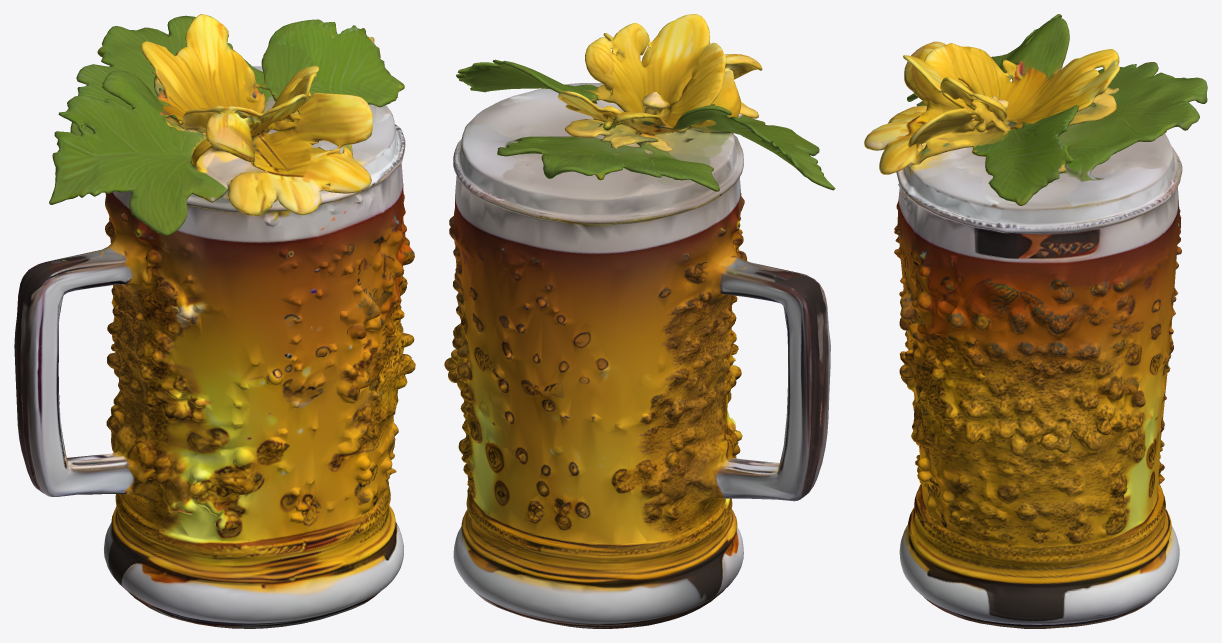
The model's file is The Mango Man.glb.
3 views of the same model, side by side, from view 1: azimuth 30°, elevation 25°; view 2: azimuth 150°, elevation 25°; view 3: azimuth 270°, elevation 25° (orthographic). The views are drawn at different scales.
Visible parts, largest first — view 1: texture_v100.001; view 2: texture_v100.001; view 3: texture_v100.001.
Part boxes in pixels (<box>): texture_v100.001: <box>14,14,415,628</box>; texture_v100.001: <box>444,14,835,628</box>; texture_v100.001: <box>864,14,1207,628</box>.
Bounding box in the file's own units: 0.7442 × 1.02 × 0.6257.
Materials: 1 (1 with a texture image).
